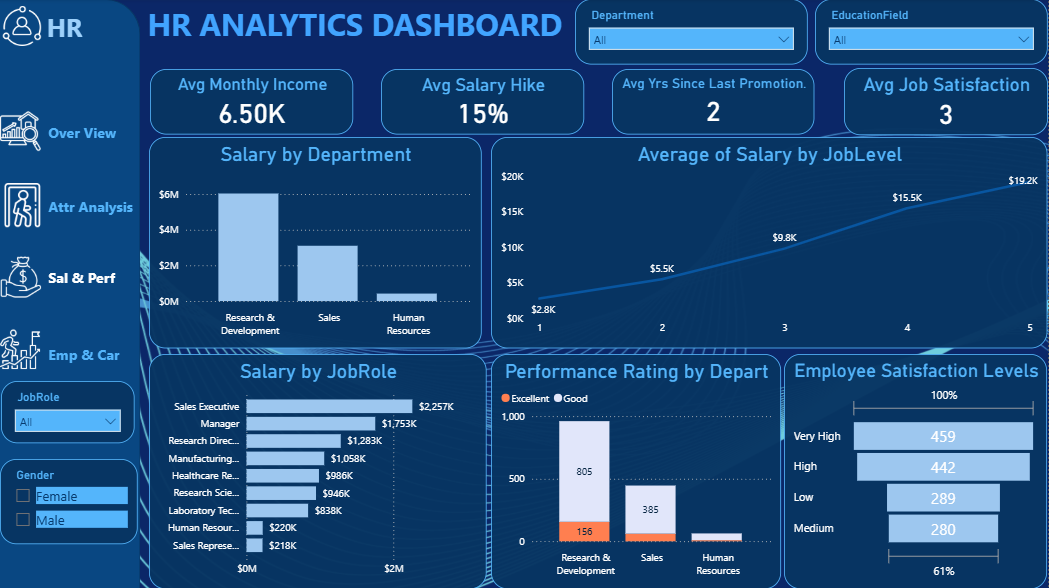

This screenshot's page, from the dashboard's own definition file:
{"tool":"powerbi","page":{"name":"Salary & Performance","canvas":[1280,720],"ordinal":2},"visuals":[{"type":"shape","box":[0,0,172.4,720],"z":0,"group":"g1"},{"type":"textbox","box":[173.4,0,521.6,61.8],"z":0},{"type":"group","id":"g1","title":"Group 1","box":[0,0,172.4,720],"z":1000},{"type":"image","box":[0,5.3,55.8,55.8],"z":1000,"group":"g1"},{"type":"actionButton","box":[55.8,142.2,111.7,39.9],"z":2000,"group":"g1"},{"type":"slicer","fields":{"Values":["HR Dataset.Gender"]},"box":[1.5,560.9,167.6,104.4],"z":2000},{"type":"actionButton","box":[55.8,232.6,111.7,39.9],"z":3000,"group":"g1"},{"type":"slicer","fields":{"Values":["HR Dataset.JobRole"]},"box":[2.9,466.7,163.2,76.5],"z":3000},{"type":"slicer","fields":{"Values":["HR Dataset.Department"]},"box":[702.9,0,284.3,80],"z":4000},{"type":"actionButton","box":[55.8,320.3,111.7,39.9],"z":4000,"group":"g1"},{"type":"slicer","fields":{"Values":["HR Dataset.EducationField"]},"box":[995.7,0,284.3,80],"z":5000},{"type":"actionButton","box":[55.8,413.4,111.7,39.9],"z":5000,"group":"g1"},{"type":"card","title":"Avg Monthly Income","fields":{"Values":["HR Dataset.Average Salary"]},"box":[184,85.7,248,80],"z":6000},{"type":"image","box":[0,136.9,51.8,49.2],"z":6000,"group":"g1"},{"type":"card","title":"Avg Salary Hike ","fields":{"Values":["HR Dataset.Average Salary Hike %"]},"box":[466.3,85.7,248,80],"z":7000},{"type":"image","box":[0,224.6,57.2,54.5],"z":7000,"group":"g1"},{"type":"card","title":"Avg Yrs Since Last Promotion.","fields":{"Values":["HR Dataset.Avg Years Since Last Promotion"]},"box":[748.6,85.7,247.1,80],"z":8000},{"type":"image","box":[1.3,312.4,50.5,54.5],"z":8000,"group":"g1"},{"type":"card","title":"Avg Job Satisfaction","fields":{"Values":["HR Dataset.Avg Job Satisfaction"]},"box":[1030.7,84,248.9,81.8],"z":9000},{"type":"image","box":[0,401.4,50.5,51.8],"z":9000,"group":"g1"},{"type":"clusteredColumnChart","title":"Salary by Department","fields":{"Y":["Sum(HR Dataset.Salary)"],"Category":["HR Dataset.Department"]},"box":[183.6,168.7,406,258.2],"z":10000},{"type":"clusteredBarChart","title":"Salary by JobRole","fields":{"Category":["HR Dataset.JobRole"],"Y":["Sum(HR Dataset.Salary)"]},"box":[183.6,432.8,411.9,286.6],"z":11000},{"type":"columnChart","title":"Performance Rating by Depart","fields":{"Category":["HR Dataset.Department"],"Series":["HR Dataset.Performance Rating"],"Y":["CountNonNull(HR Dataset.Employee_ID)"]},"box":[600,432.8,353.7,286.6],"z":12000},{"type":"lineChart","fields":{"Category":["HR Dataset.JobLevel"],"Y":["Avg(HR Dataset.Salary)"]},"box":[600,168.7,679.1,258.2],"z":13000},{"type":"funnel","title":"Employee Satisfaction Levels","fields":{"Category":["HR Dataset.Job Satisfaction T"],"Y":["CountNonNull(HR Dataset.Employee_ID)"]},"box":[958,433,321,287],"z":14000}]}

Visuals, with their boxes in screenshot pixels (x1, y1, x2, y2), scaled from the page's 1280x720 canvas onto the 1049x588 screenshot:
shape: (0, 0, 141, 587)
textbox: (142, 0, 570, 50)
"Group 1" group: (0, 0, 141, 587)
image: (0, 4, 46, 50)
actionButton: (46, 116, 137, 149)
slicer - HR Dataset.Gender: (1, 458, 139, 543)
actionButton: (46, 190, 137, 223)
slicer - HR Dataset.JobRole: (2, 381, 136, 444)
slicer - HR Dataset.Department: (576, 0, 809, 65)
actionButton: (46, 262, 137, 294)
slicer - HR Dataset.EducationField: (816, 0, 1048, 65)
actionButton: (46, 338, 137, 370)
"Avg Monthly Income" card: (151, 70, 354, 135)
image: (0, 112, 42, 152)
"Avg Salary Hike " card: (382, 70, 585, 135)
image: (0, 183, 47, 228)
"Avg Yrs Since Last Promotion." card: (614, 70, 816, 135)
image: (1, 255, 42, 300)
"Avg Job Satisfaction" card: (845, 69, 1048, 135)
image: (0, 328, 41, 370)
"Salary by Department" clusteredColumnChart: (150, 138, 483, 349)
"Salary by JobRole" clusteredBarChart: (150, 353, 488, 587)
"Performance Rating by Depart" columnChart: (492, 353, 782, 587)
lineChart - HR Dataset.JobLevel x Avg(HR Dataset.Salary): (492, 138, 1048, 349)
"Employee Satisfaction Levels" funnel: (785, 354, 1048, 587)
